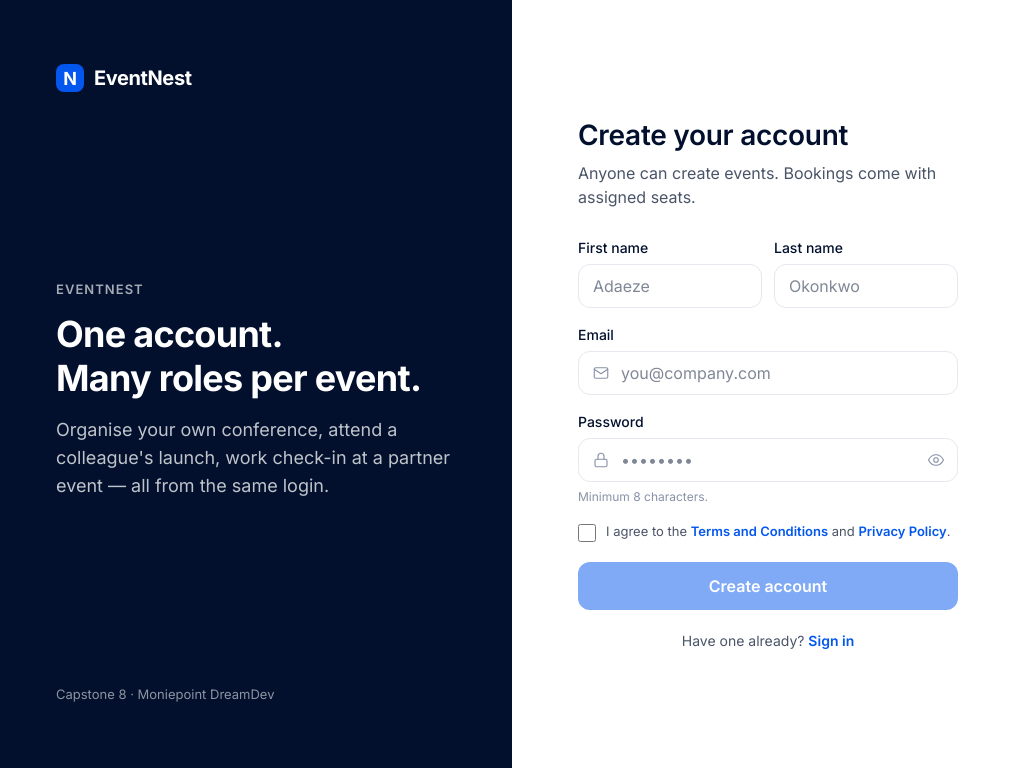
Test: RegisterPage › enables submit button when all fields are filled
The width and height of the screenshot is (1024, 768).
Type "Jane" into the field labelled "First name".
click(670, 286); type("Jane")  # box [578,264,762,308]
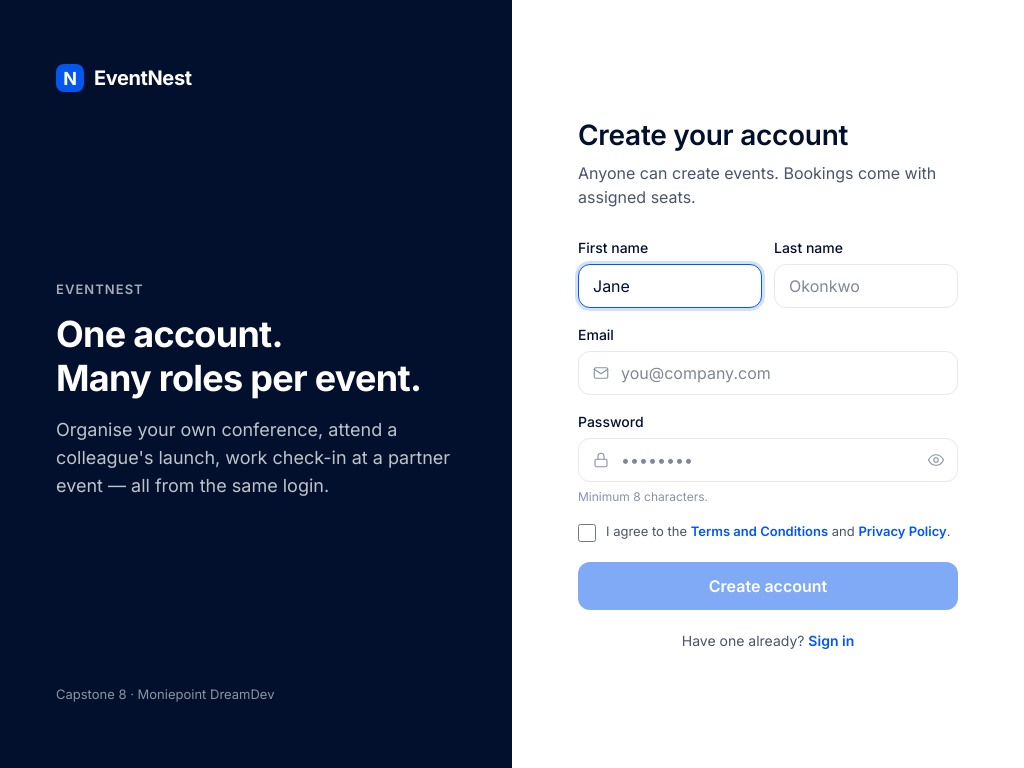
Type "Doe" into the field labelled "Last name".
click(866, 286); type("Doe")  # box [774,264,958,308]
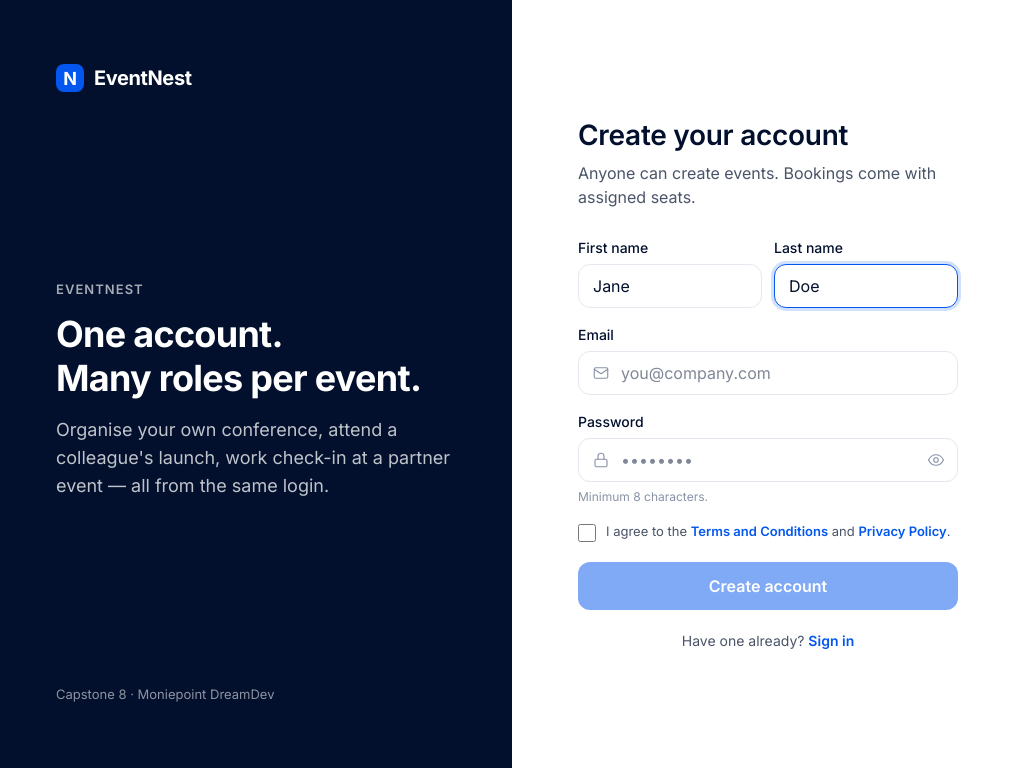
Type "jane@example.com" into the field labelled "Email".
click(768, 373); type("jane@example.com")  # box [578,351,958,395]
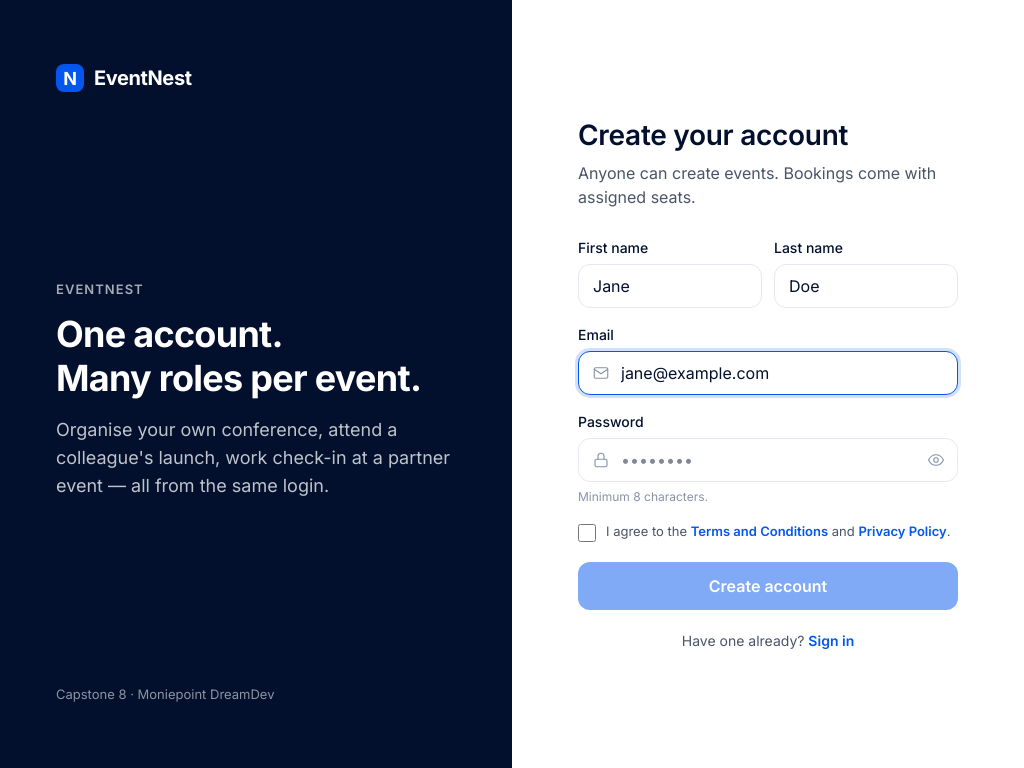
Type "password123" into the password field labelled "Password Minimum 8 characters.".
click(768, 460); type("password123")  # box [578,438,958,482]
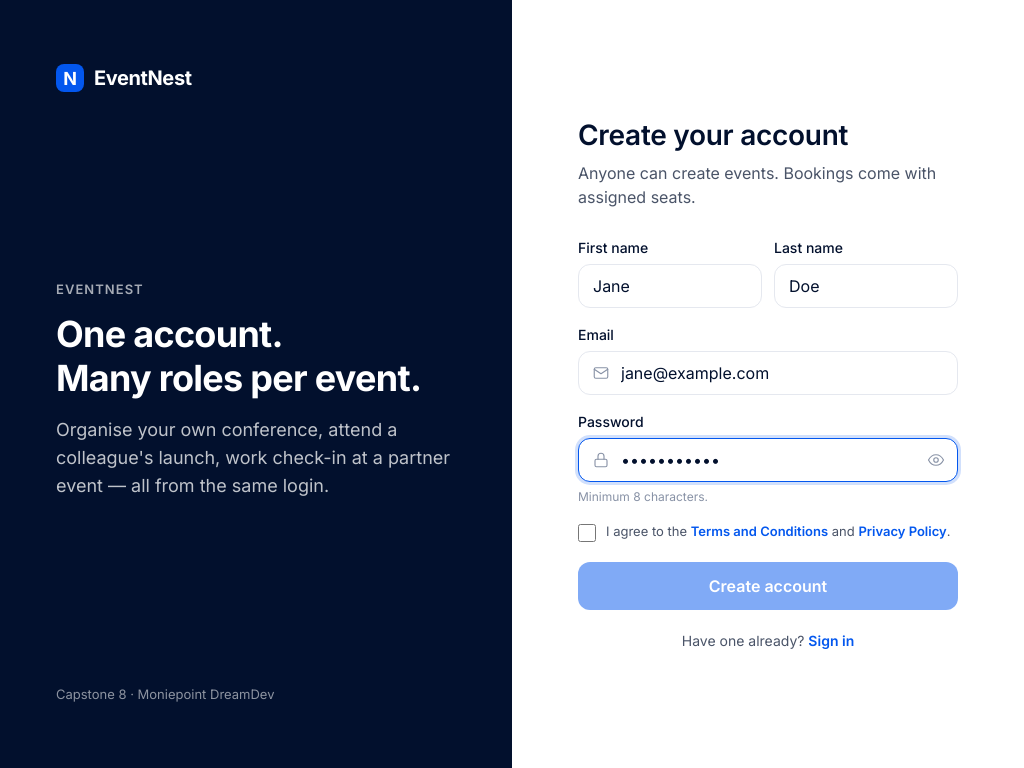
Click the checkbox.
click(587, 533)  # box [578,524,596,542]
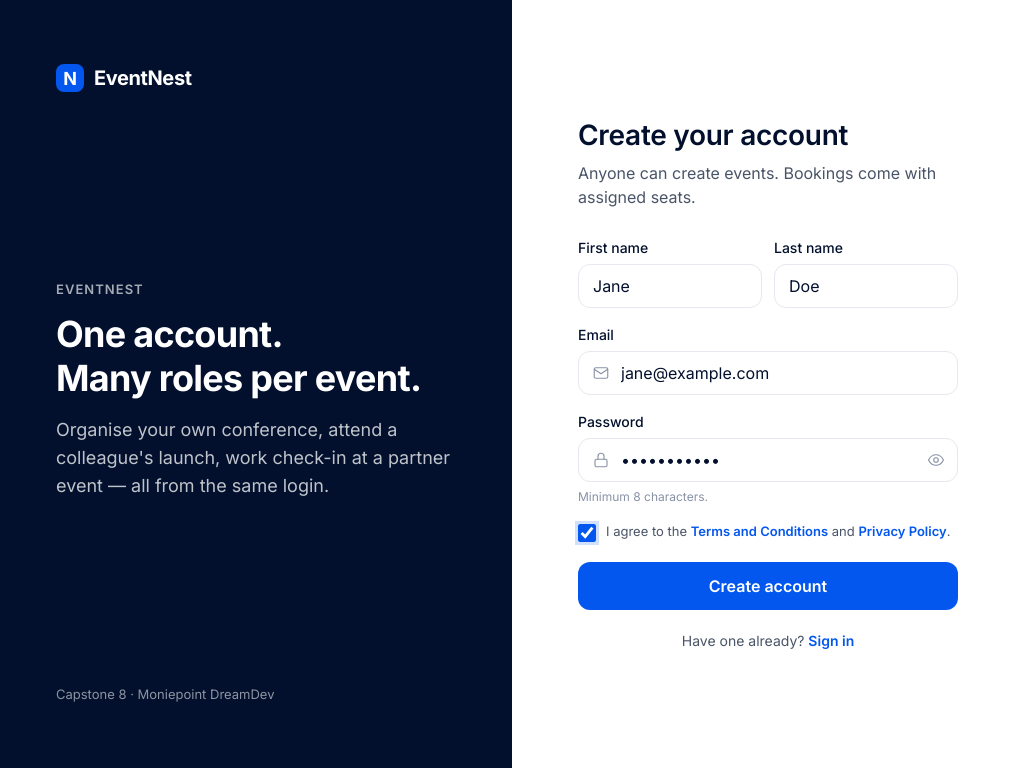
Expected: the button "Create account" is enabled, [578,562,958,610]
